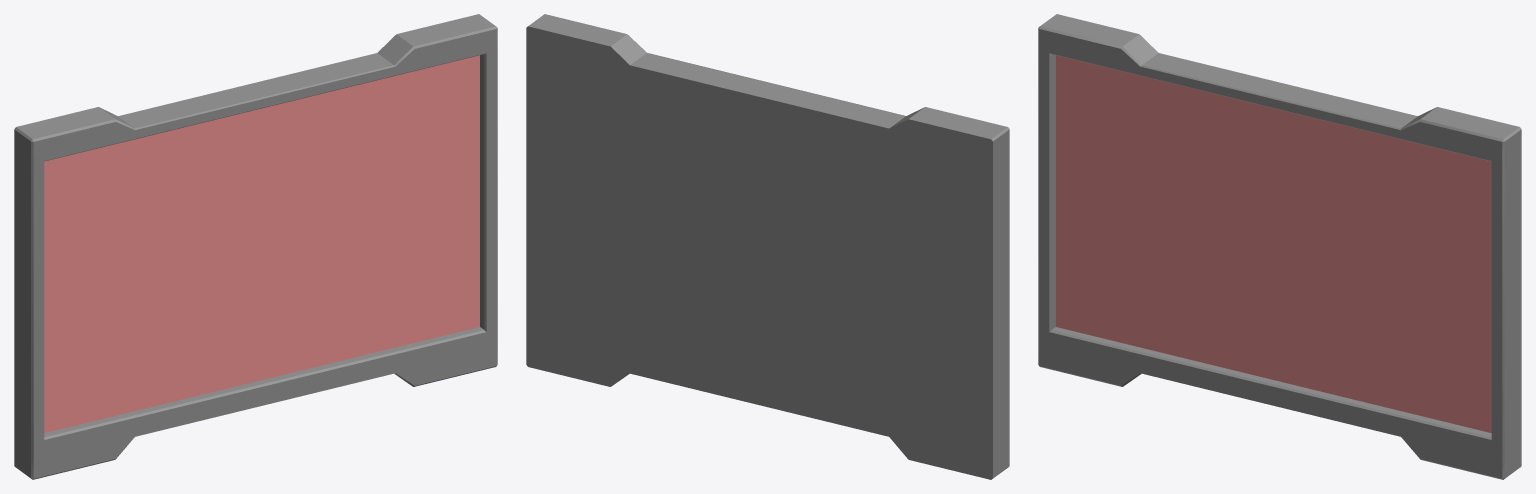
The model's file is S_Envi_Olgk_dj_87.gltf.
3 renders of one model, left to right at view 1: azimuth 30°, elevation 25°; view 2: azimuth 150°, elevation 25°; view 3: azimuth 330°, elevation 25°, orthographic.
Visible parts, largest first — view 1: S_Envi_Olgk_dj_87; view 2: S_Envi_Olgk_dj_87; view 3: S_Envi_Olgk_dj_87.
Part boxes in pixels (left/top/right/bottom): S_Envi_Olgk_dj_87: left=14, top=14, right=497, bottom=479; S_Envi_Olgk_dj_87: left=526, top=14, right=1009, bottom=479; S_Envi_Olgk_dj_87: left=1038, top=14, right=1521, bottom=479.
Bounding box in the file's own units: 2.68 × 1.87 × 0.1775.
